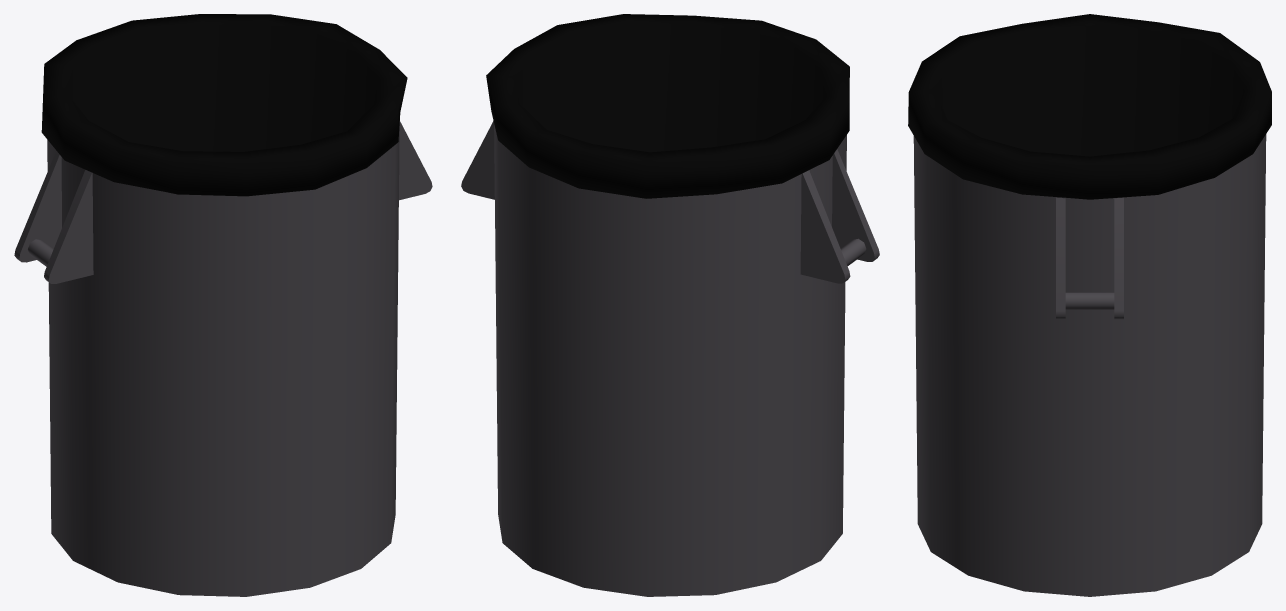
The model's file is TrashCan.fbx.
3 renders of one model, left to right at view 1: azimuth 30°, elevation 25°; view 2: azimuth 150°, elevation 25°; view 3: azimuth 270°, elevation 25°, orthographic.
Parts seen in each view (by area): view 1: Plane; view 2: Plane; view 3: Plane.
Boxes of the visible parts, bbox=[...] form: Plane: bbox=[14, 14, 432, 596]; Plane: bbox=[461, 14, 879, 596]; Plane: bbox=[908, 14, 1271, 596].
Size of the model in its own units: 73.4 by 80.39 by 60.74.
1 material, 1 textured.
